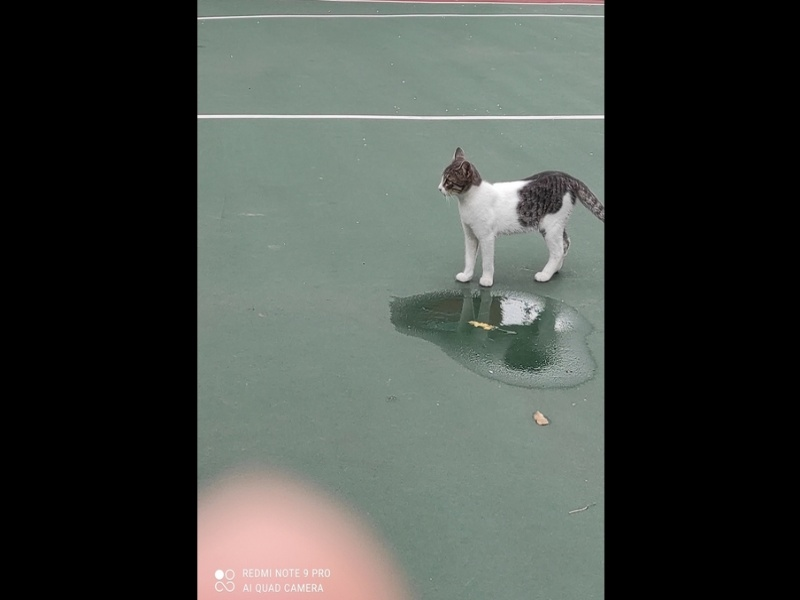cat: (436, 143, 603, 290)
